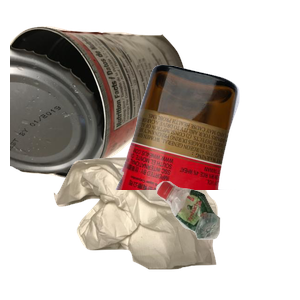glass: (113, 62, 300, 242)
metal: (10, 23, 193, 194)
plastic: (153, 178, 300, 300)
trash: (51, 155, 261, 300)
